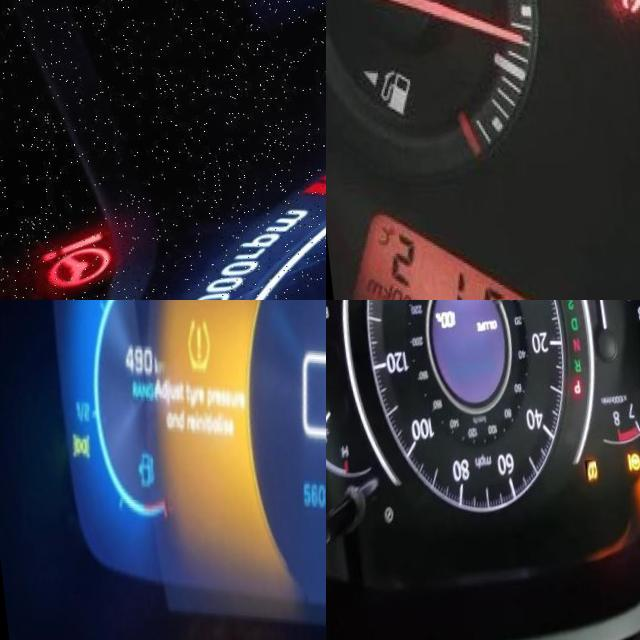Electronic Power Steering: (6, 217, 137, 300)
